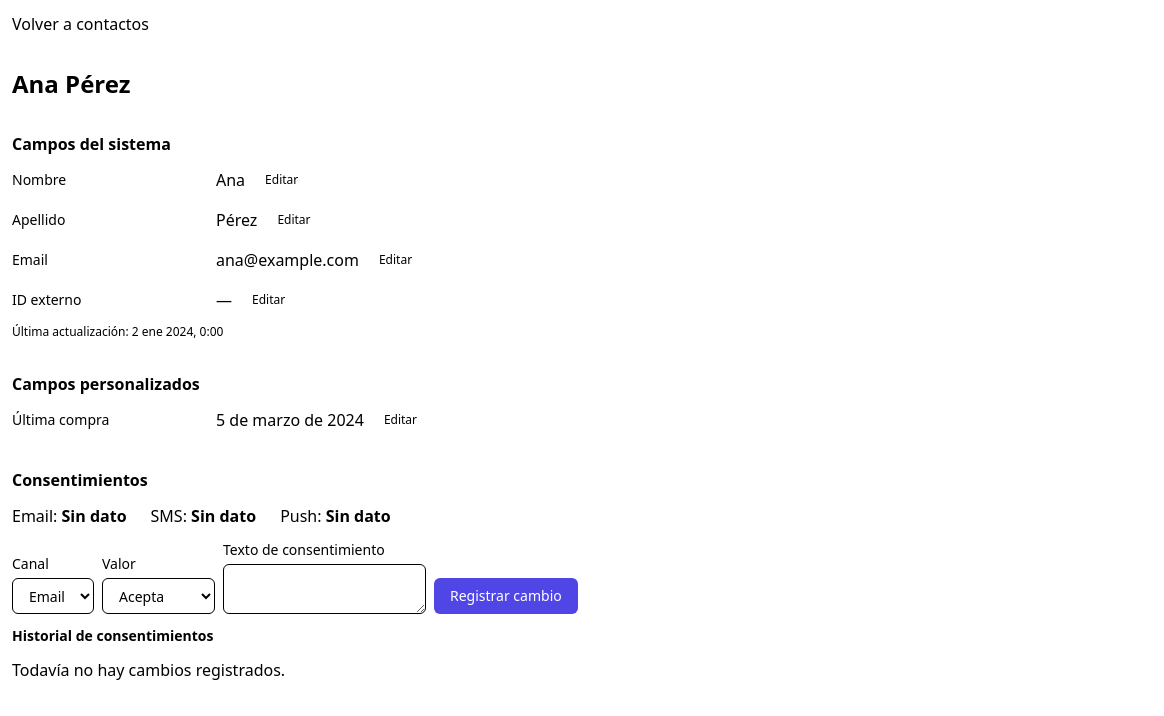
Test case: contact detail › records a consent change with mandatory text and shows it in the history
Expected: the text "Sin dato" is shown 3 times, [62,505,126,527]; [191,505,256,527]; [326,505,391,527]
Step 1. Type "Acepto recibir emails" into the text box labelled "Texto de consentimiento" → (324,589), box [223,564,426,614]
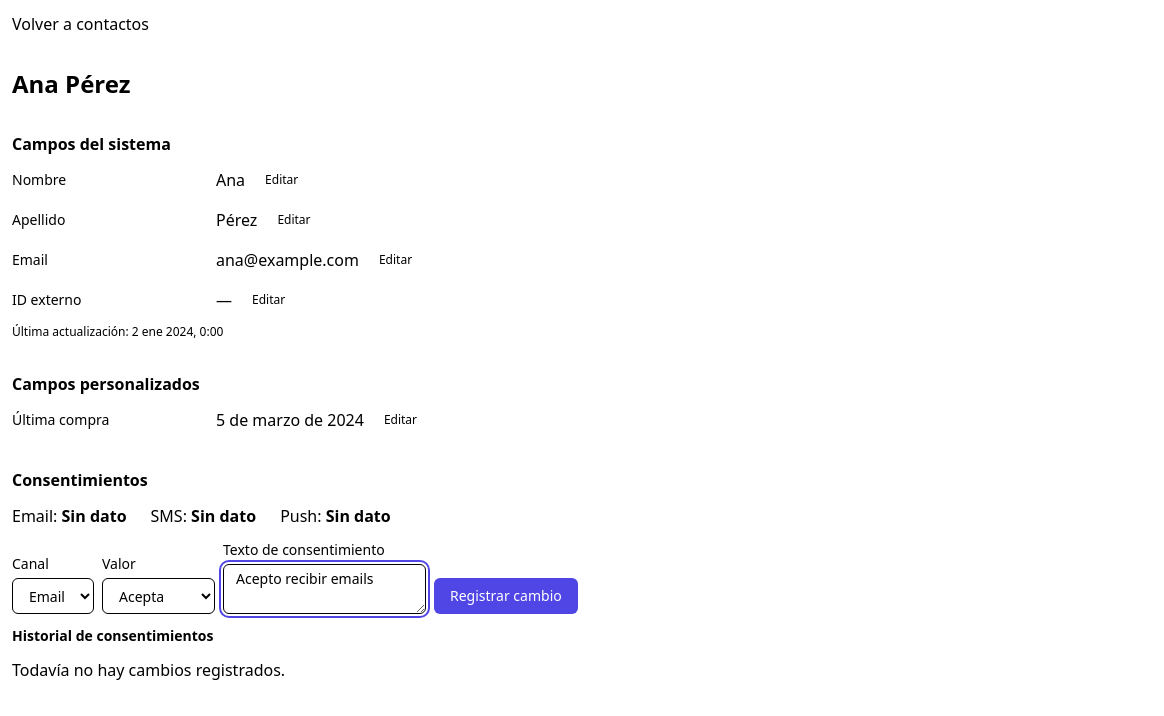
Step 2. Click the button "Registrar cambio" → (506,596), box [434,578,578,614]
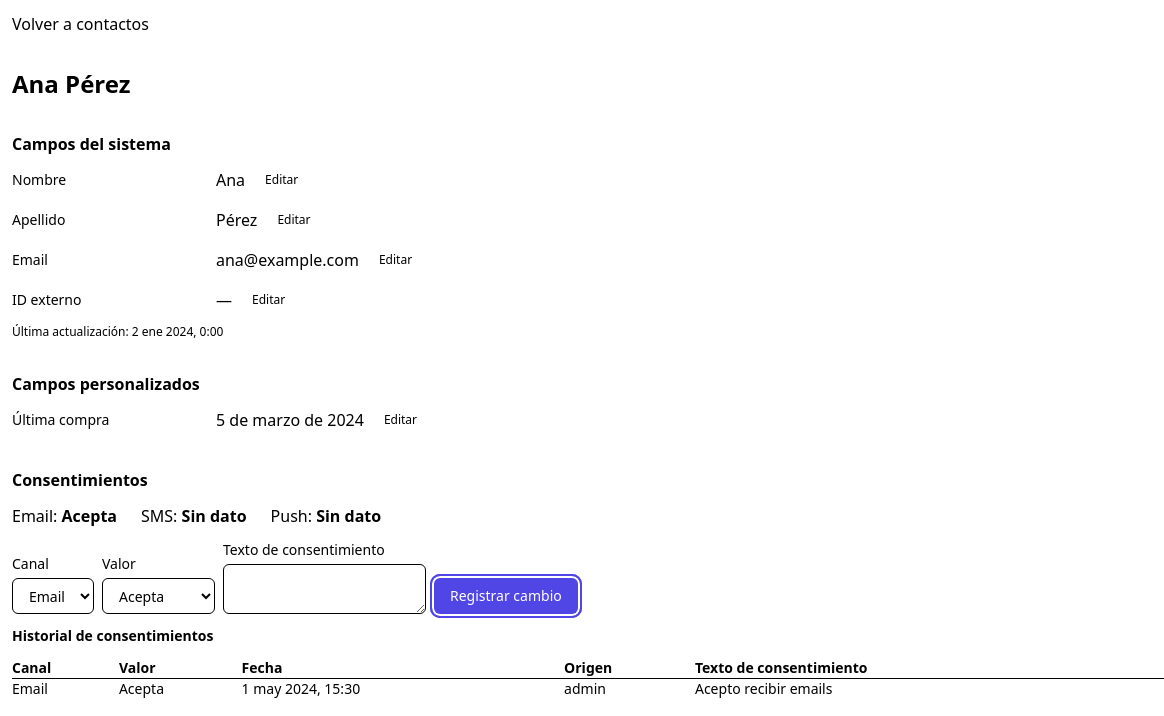
Now the text "Acepto recibir emails" shows "Acepta", box [119,679,164,698]
Now the text "Acepto recibir emails" shows "admin", box [564,679,606,698]
